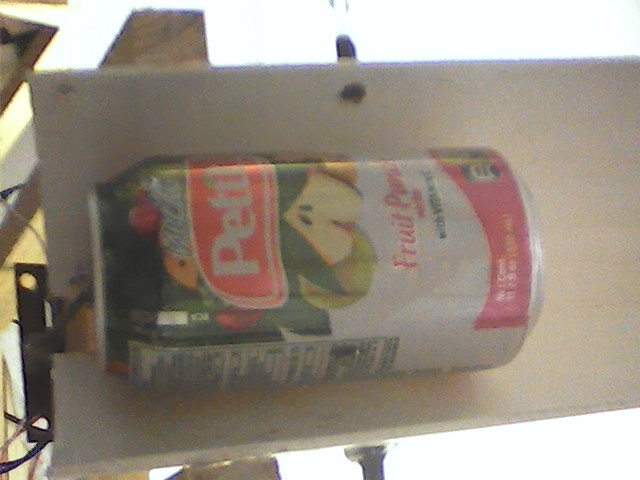lata: (83, 143, 550, 397)
